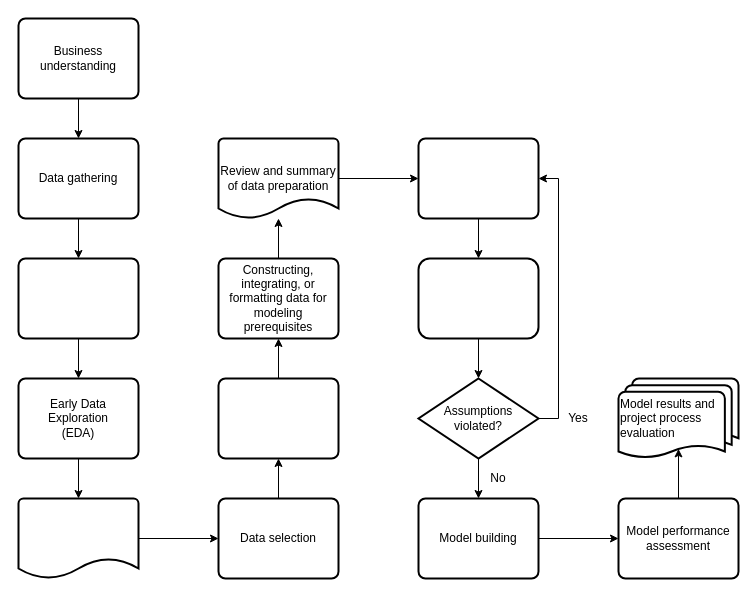
The diagram is 756 pixels wide and 596 high, and some of its shapes have lost their labels. Here are the shapes that lost their labels. From the top down, the centre of each, then its label:
At point 478,178: "Modeling technique selection".
At point 78,298: "Data description".
At point 478,298: "Modeling technique assumption testing".
At point 278,418: "Data cleaning".
At point 78,538: "Summary of data understanding".
